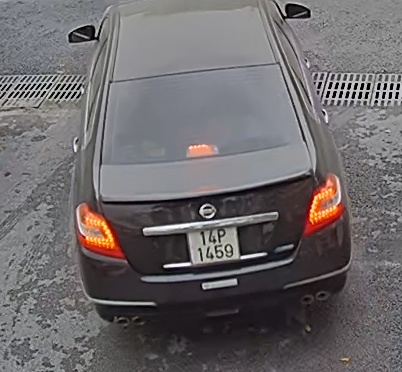vehicle plate: (183, 223, 241, 264)
